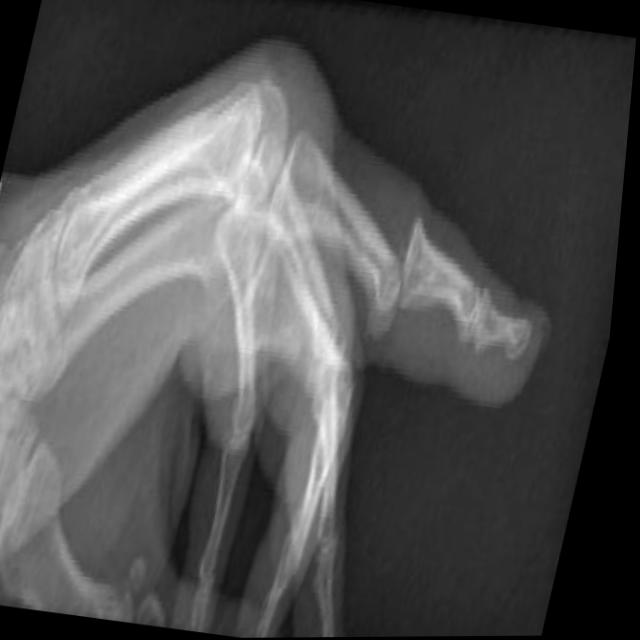fracture: (366, 199, 439, 352)
